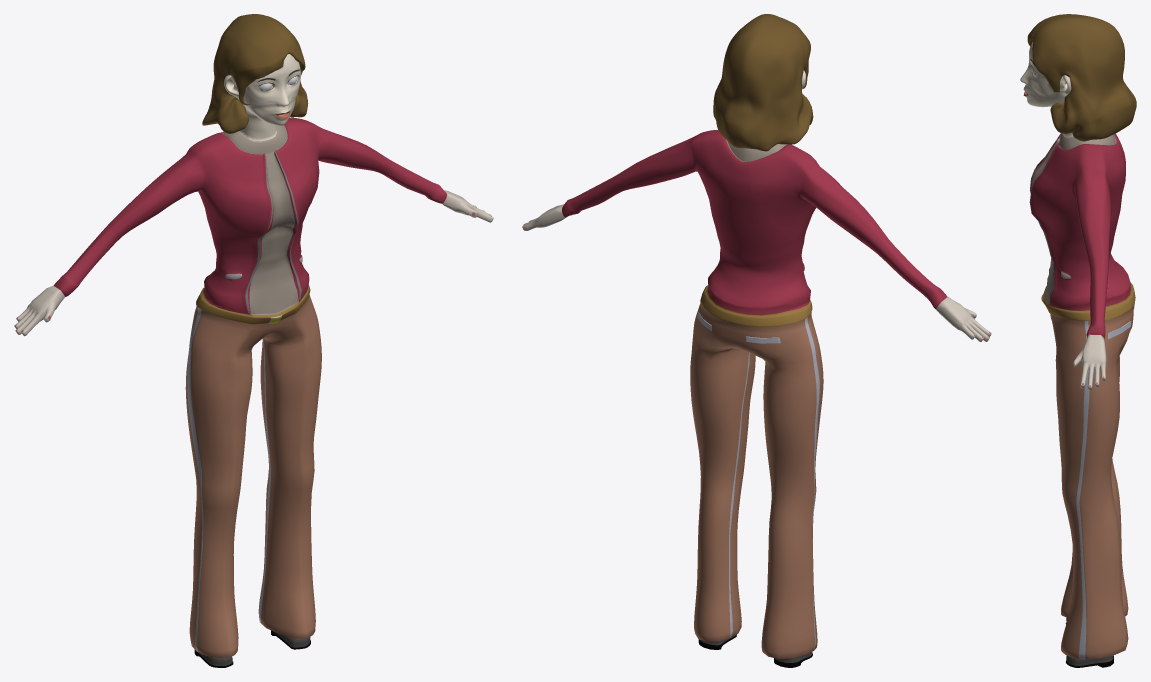
Rendered from FIXEDMAINCHARACTER.fbx.
The picture shows the model from 3 angles, left to right: view 1: azimuth 30°, elevation 25°; view 2: azimuth 150°, elevation 25°; view 3: azimuth 270°, elevation 25°; orthographic projection. The views are drawn at different scales.
Parts seen in each view (by area): view 1: group1; view 2: group1; view 3: group1.
Boxes of the visible parts, x1,y1,x2,y2 form: group1: (14, 14, 493, 667); group1: (522, 14, 991, 667); group1: (1020, 14, 1136, 667).
Size of the model in its own units: 9.37 by 11.99 by 2.02.
